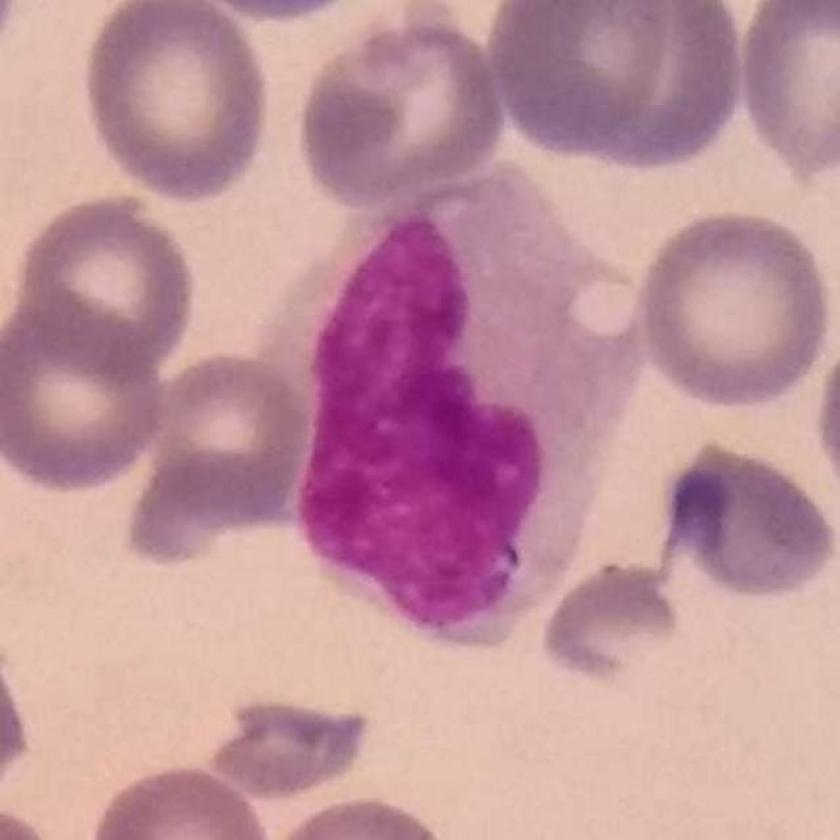monocyte: (256, 148, 648, 657)
